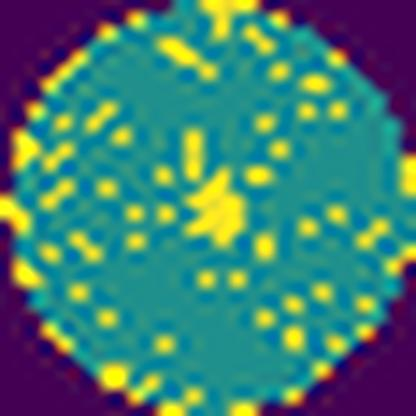Center: (178, 168, 258, 253)
